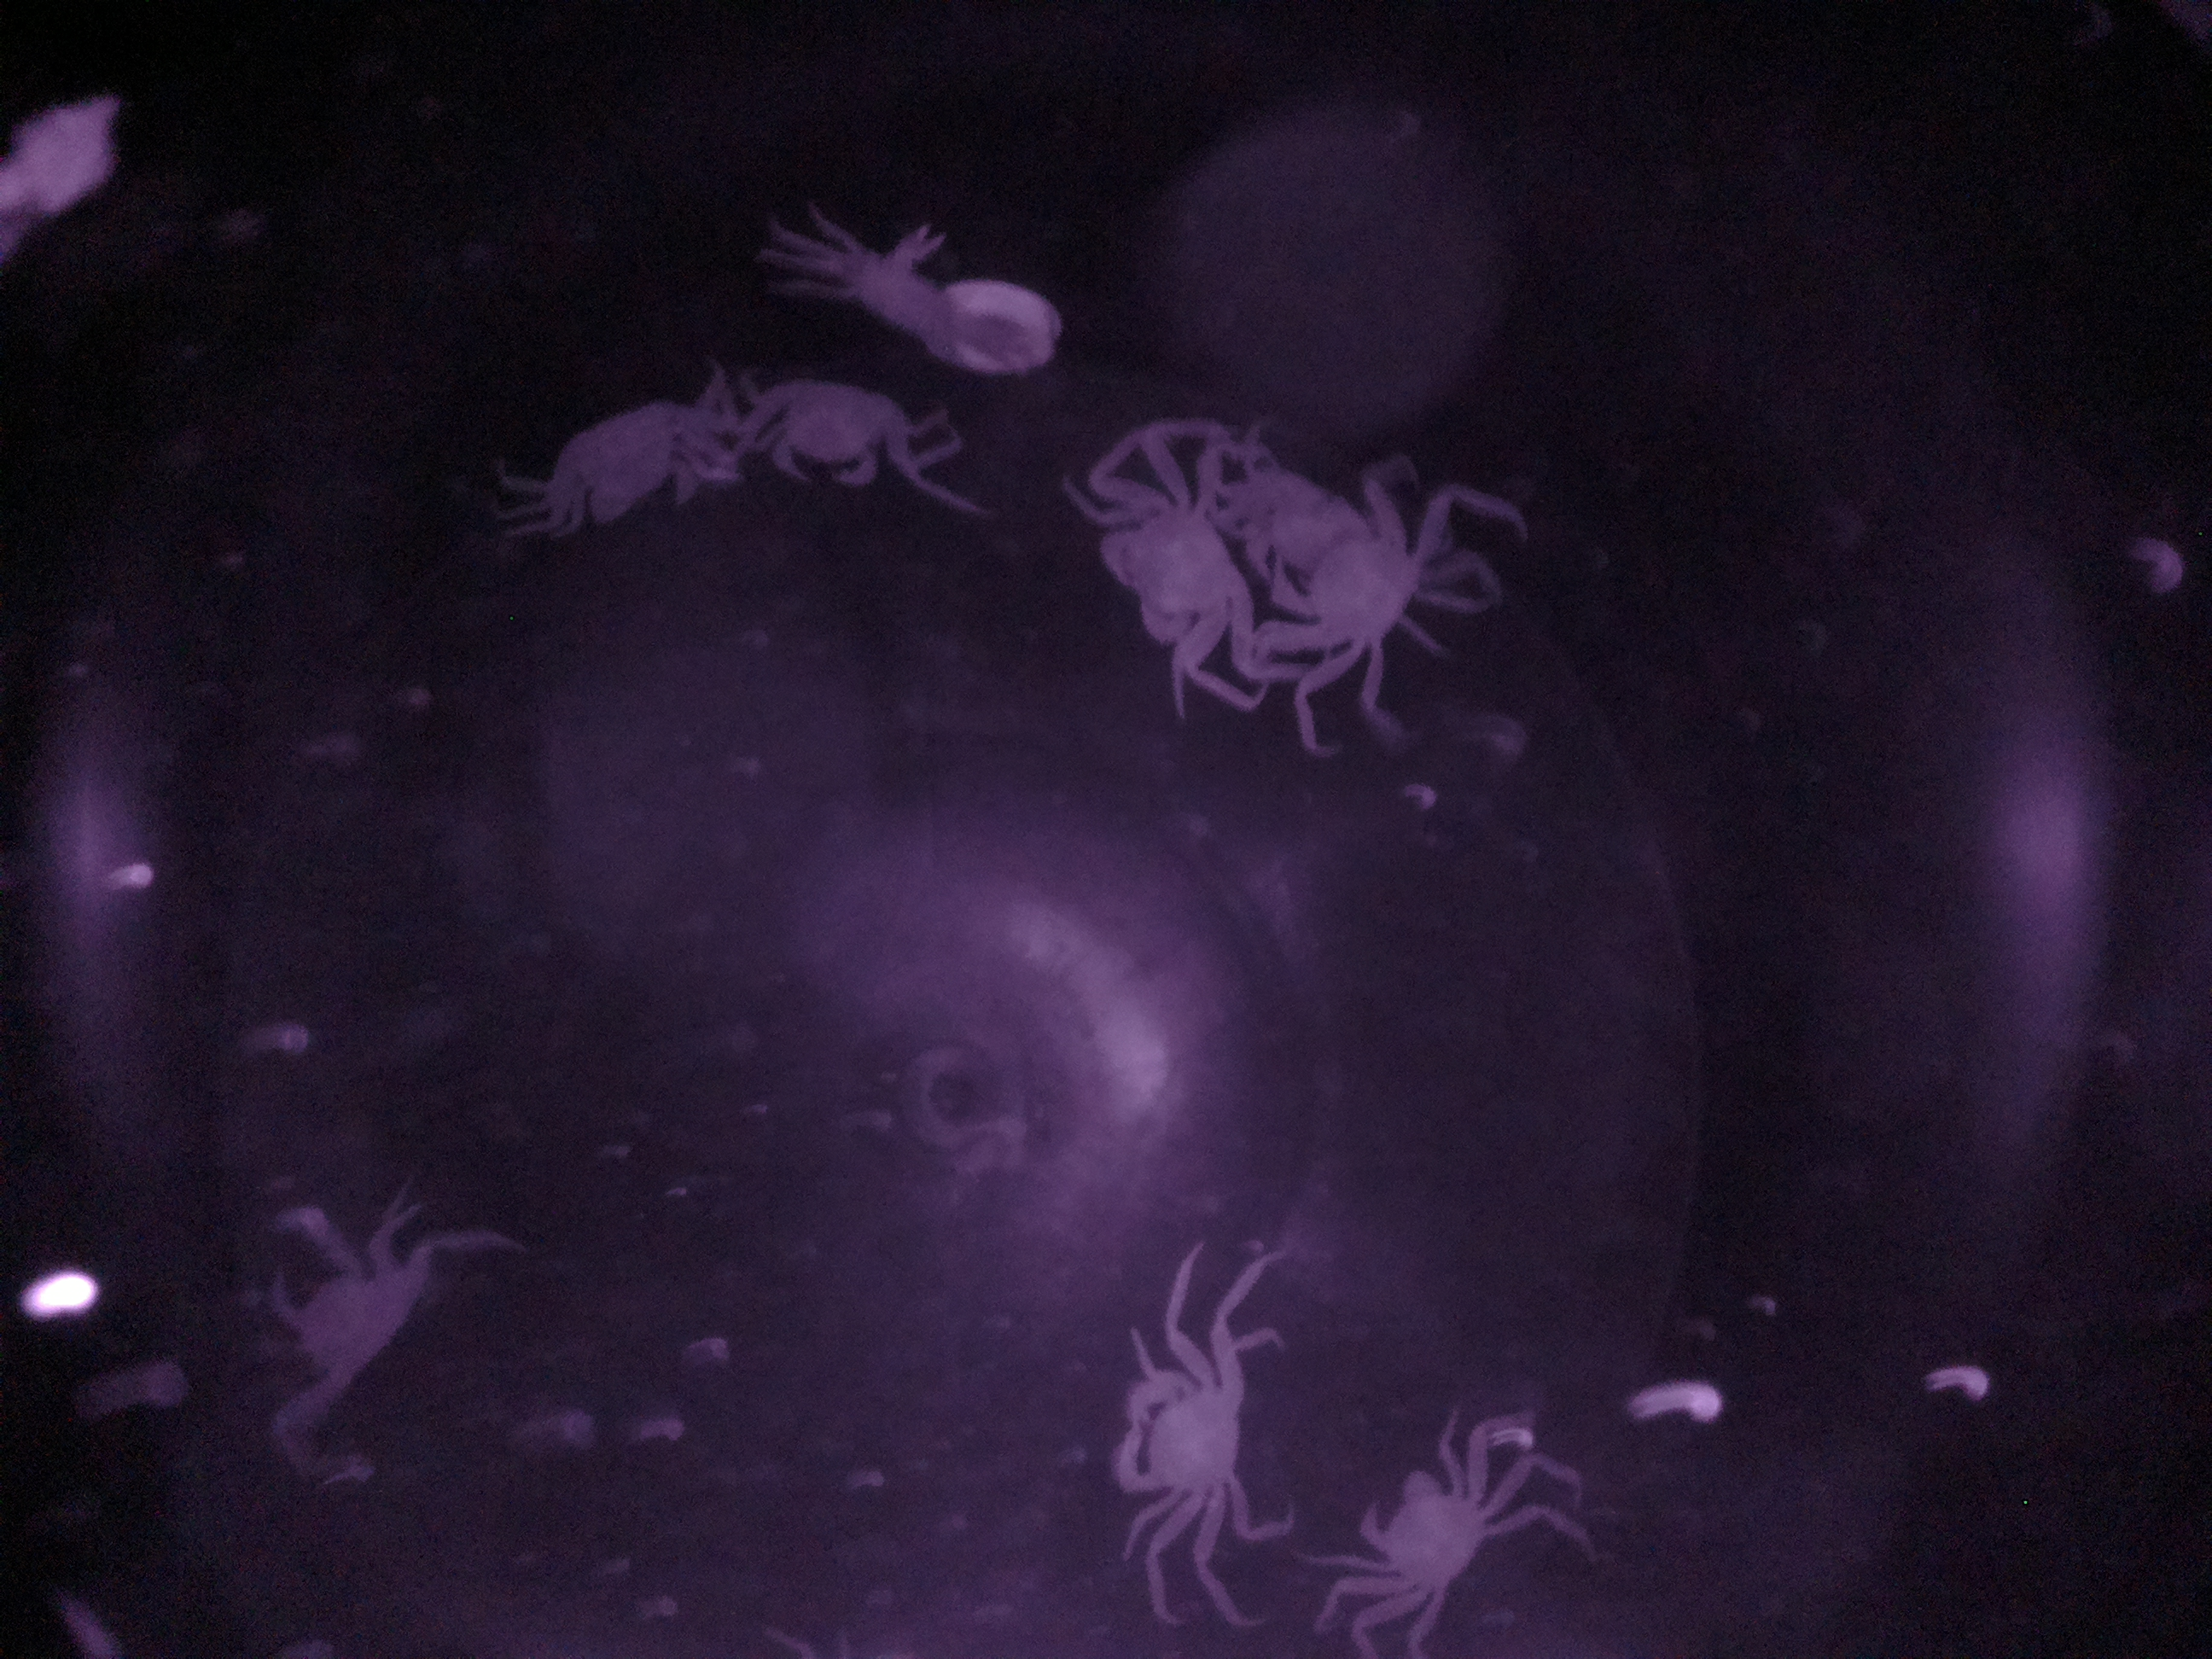Crab: (1103, 1297, 1271, 1577), (1334, 1420, 1515, 1640), (737, 350, 935, 514)
